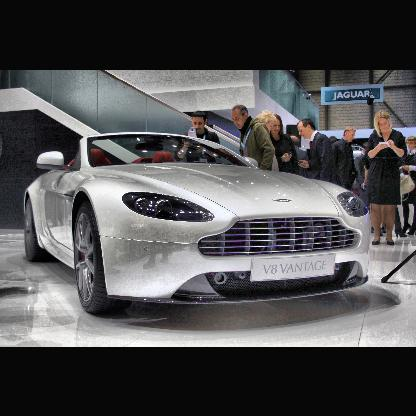Aston Martin V8 Vantage Convertible 2012: (24, 132, 373, 316)
